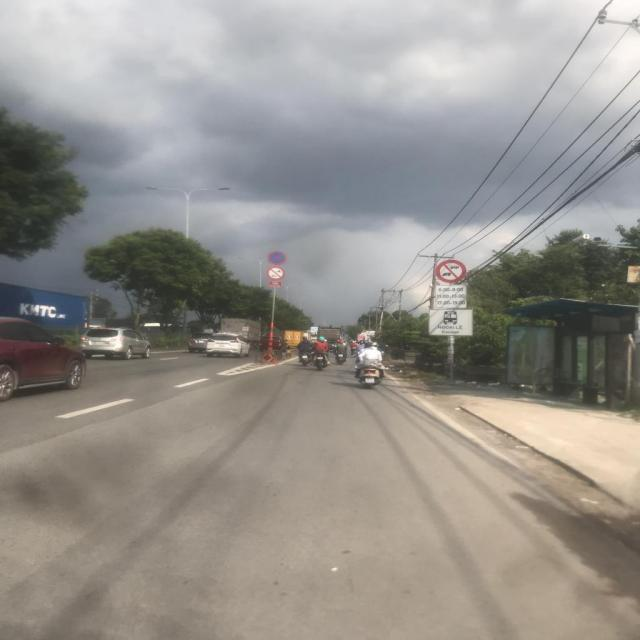cam_dung_xe_va_do_xe: (267, 251, 287, 266)
cam_o_to_tai_va_xe_khach: (437, 259, 467, 283)
cam_xe_2_banh_va_xe_3_banh_co_dong_co: (266, 266, 286, 280)
khac: (429, 310, 472, 336), (436, 284, 466, 308)
